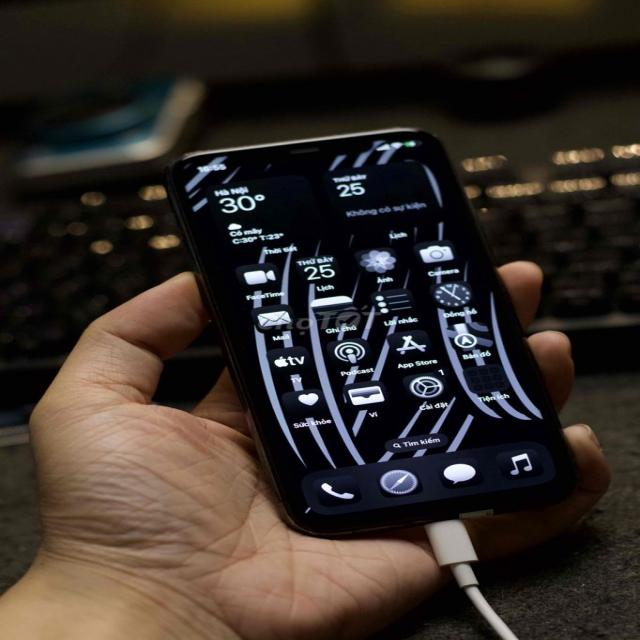gen_11: (168, 128, 574, 536)
